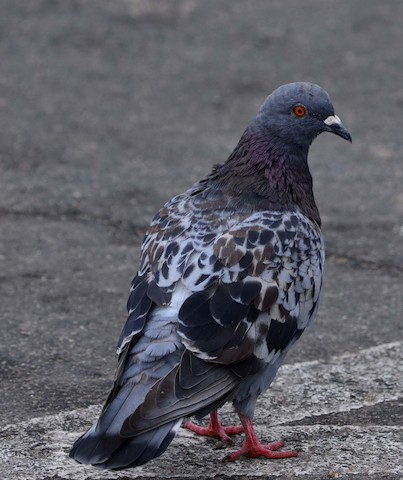pigeon: (63, 75, 359, 474)
